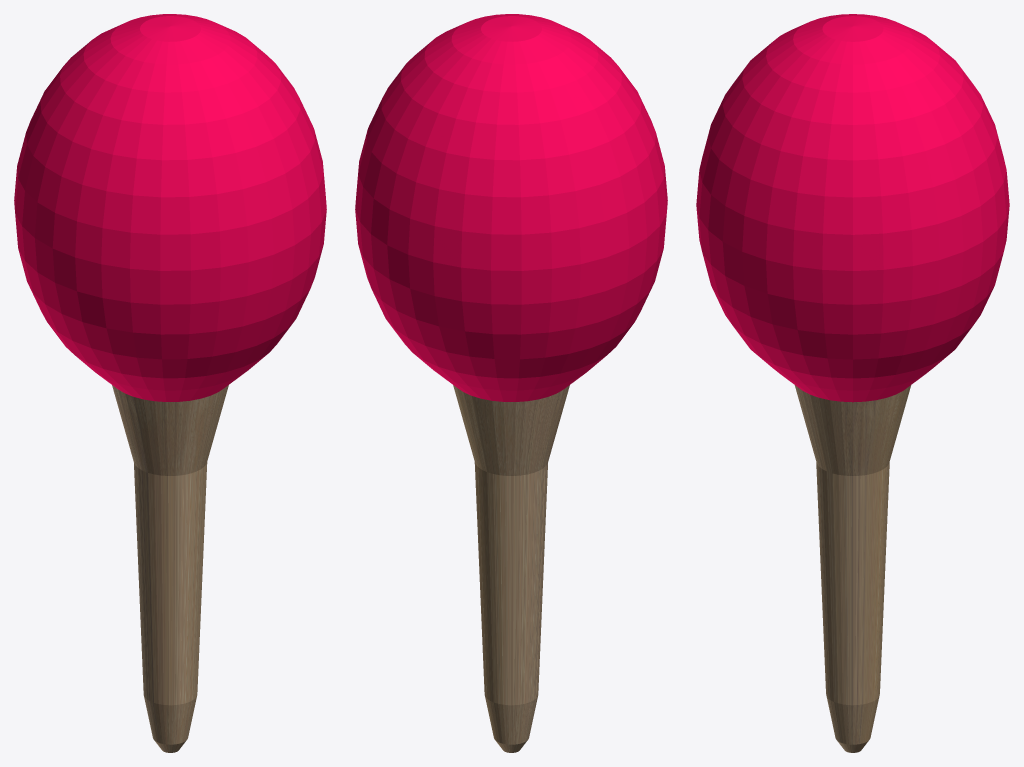
File: maracas-wood 2.glb
3 views of the same model, side by side, from view 1: azimuth 30°, elevation 25°; view 2: azimuth 150°, elevation 25°; view 3: azimuth 270°, elevation 25° (orthographic).
Parts seen in each view (by area): view 1: Sphere.002; view 2: Sphere.002; view 3: Sphere.002.
Boxes of the visible parts, x1,y1,x2,y2 form: Sphere.002: (14, 14, 326, 752); Sphere.002: (355, 14, 667, 752); Sphere.002: (696, 14, 1009, 752).
Size of the model in its own units: 1.57 by 4 by 1.57.
Materials: 2 (1 with a texture image).
